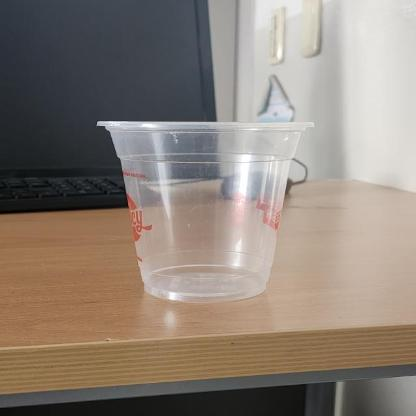Plastic Cup: (94, 116, 310, 304)
